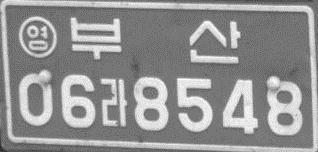0: (16, 71, 53, 127)
4: (221, 78, 258, 135)
5: (175, 77, 214, 132)
6: (59, 73, 95, 128)
8: (265, 79, 303, 136), (132, 76, 169, 131)
라: (99, 76, 128, 128)
부산_D: (68, 16, 242, 65)
영: (17, 15, 58, 58)
